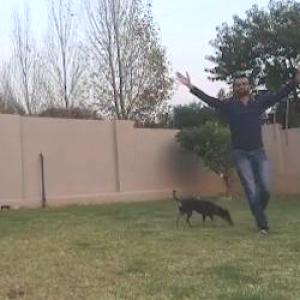takeoff: (168, 66, 299, 241)
